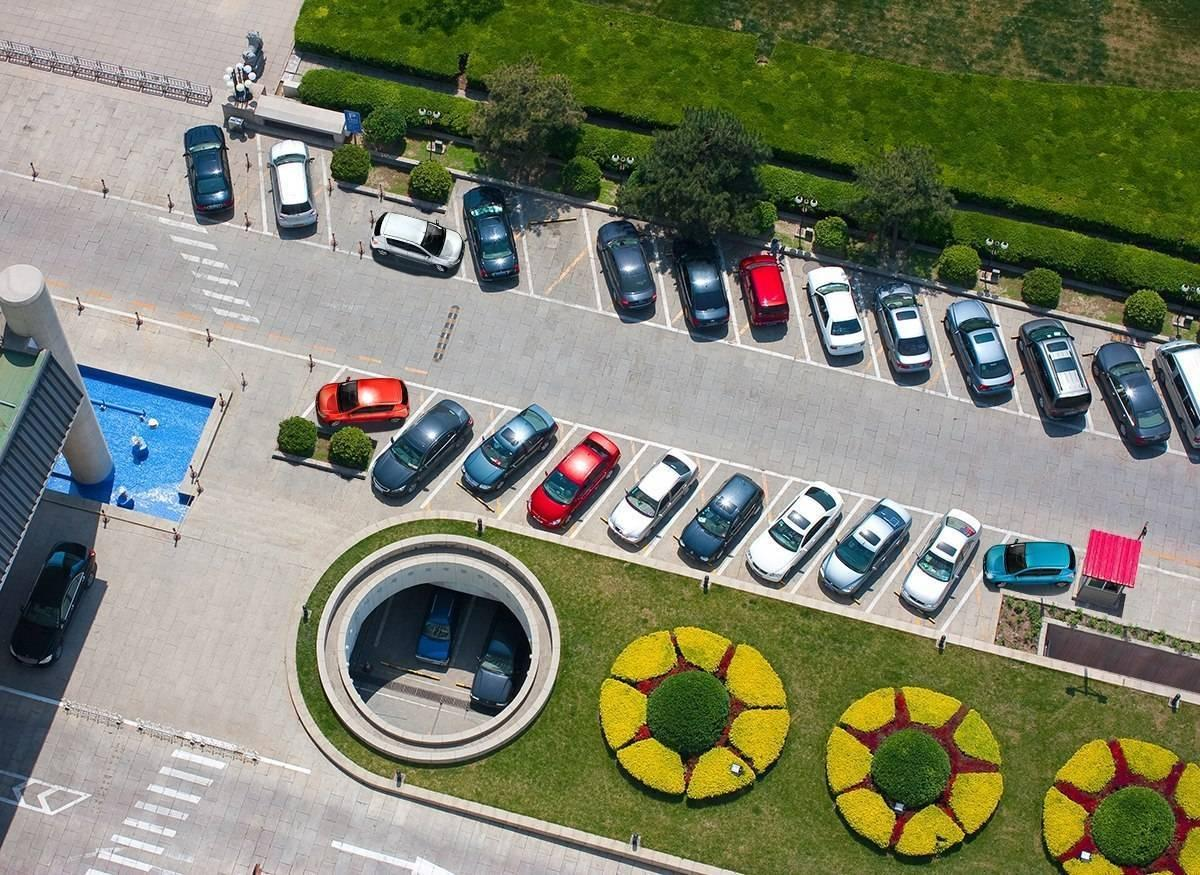empty: (376, 393, 473, 499), (822, 501, 915, 603), (751, 483, 839, 584), (463, 407, 560, 498), (613, 449, 698, 550), (540, 426, 621, 530), (1094, 345, 1169, 457), (685, 467, 768, 567), (356, 202, 467, 275), (1024, 330, 1101, 433), (902, 517, 978, 619), (180, 117, 245, 226), (593, 222, 664, 320), (461, 190, 528, 289), (324, 374, 426, 437), (953, 310, 1019, 404), (805, 277, 875, 365), (267, 147, 333, 239), (878, 294, 942, 381), (990, 535, 1088, 590), (737, 260, 793, 340), (676, 262, 736, 336)
occupied: (518, 232, 584, 297)
